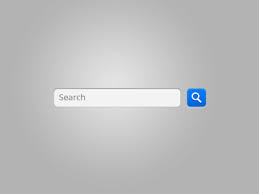searchIcon: (191, 91, 202, 103)
